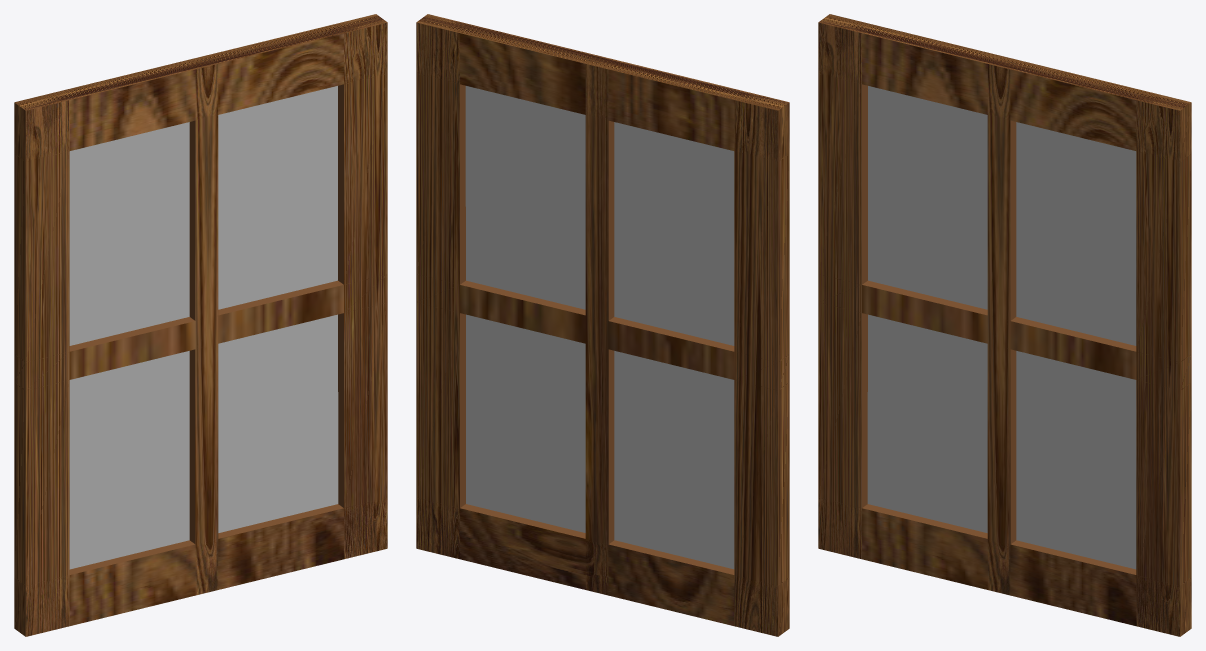
File: finestra.fbx
The picture shows the model from 3 angles, left to right: view 1: azimuth 30°, elevation 25°; view 2: azimuth 150°, elevation 25°; view 3: azimuth 330°, elevation 25°; orthographic projection.
Visible parts, largest first — view 1: struttura, glass; view 2: struttura, glass; view 3: struttura, glass.
Part boxes in pixels (box(x1,y1,x2,y2)): struttura: box(14, 14, 387, 636); glass: box(69, 86, 338, 569); struttura: box(416, 14, 789, 636); glass: box(465, 86, 734, 569); struttura: box(818, 14, 1191, 636); glass: box(867, 86, 1136, 569).
Bounding box in the file's own units: 180 × 250 × 10.
